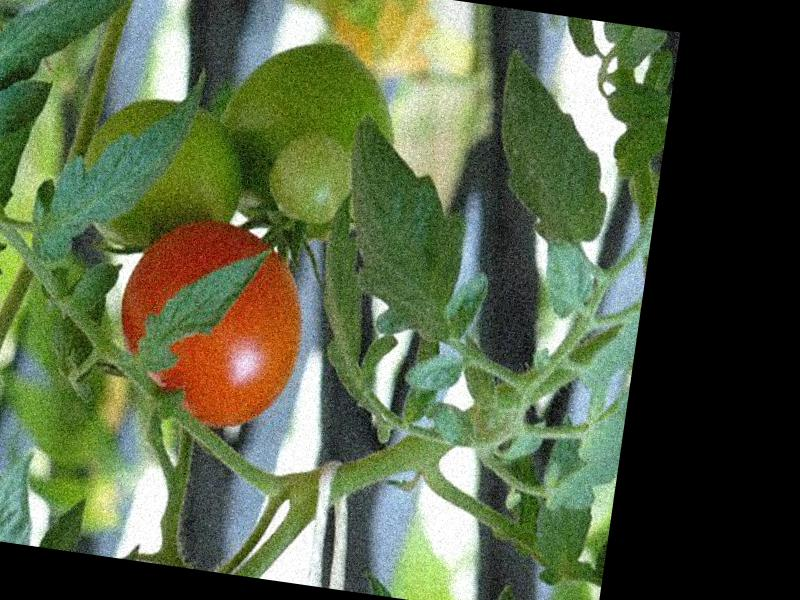Tomato: (106, 212, 316, 438)
